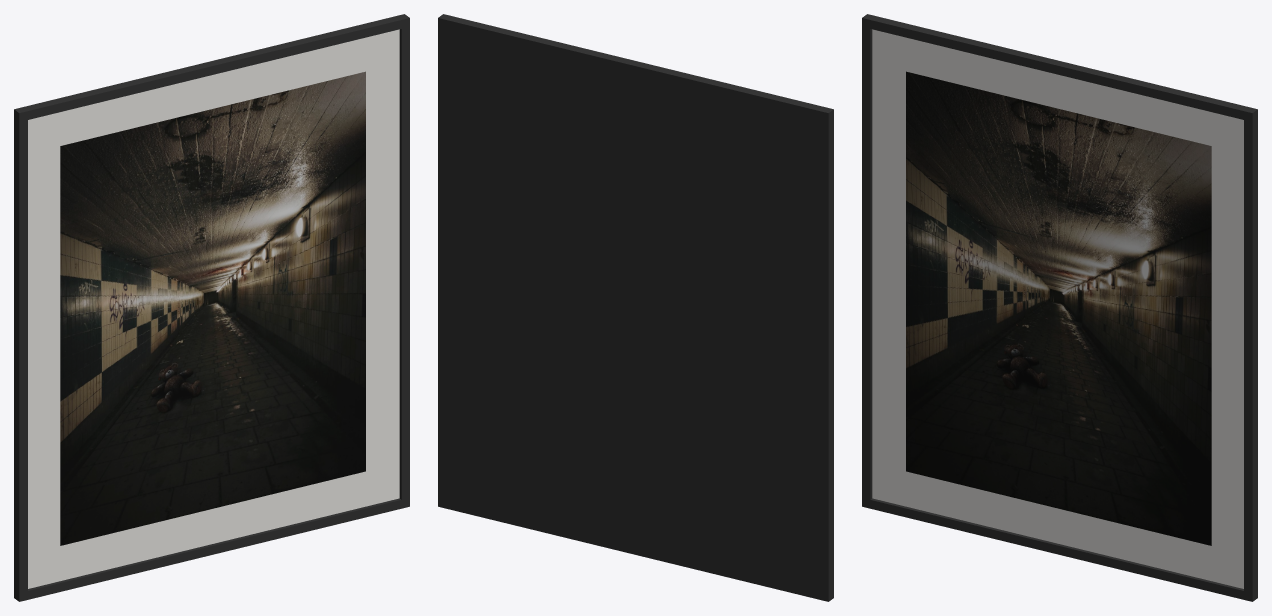
The model's file is gangtunneln-90.gltf.
The picture shows the model from 3 angles, left to right: view 1: azimuth 30°, elevation 25°; view 2: azimuth 150°, elevation 25°; view 3: azimuth 330°, elevation 25°; orthographic projection.
Visible parts, largest first — view 1: tavla; view 2: tavla; view 3: tavla.
Boxes of the visible parts, left/top/right/bottom form: tavla: left=14, top=14, right=409, bottom=601; tavla: left=438, top=14, right=833, bottom=601; tavla: left=862, top=14, right=1257, bottom=601.
Size of the model in its own units: 0.92 by 1.1 by 0.022.
3 materials, 1 textured.
